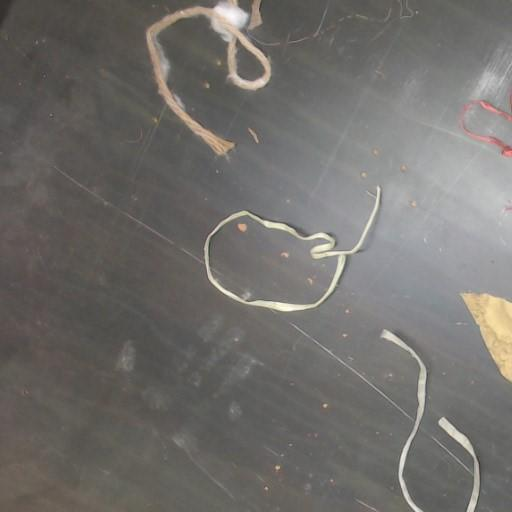conveyor belt: (0, 0, 511, 511), (211, 218, 336, 303)
jute: (146, 0, 270, 155)
thread: (203, 186, 379, 312), (380, 329, 426, 511), (285, 0, 416, 43), (438, 417, 480, 511), (460, 89, 511, 157)
